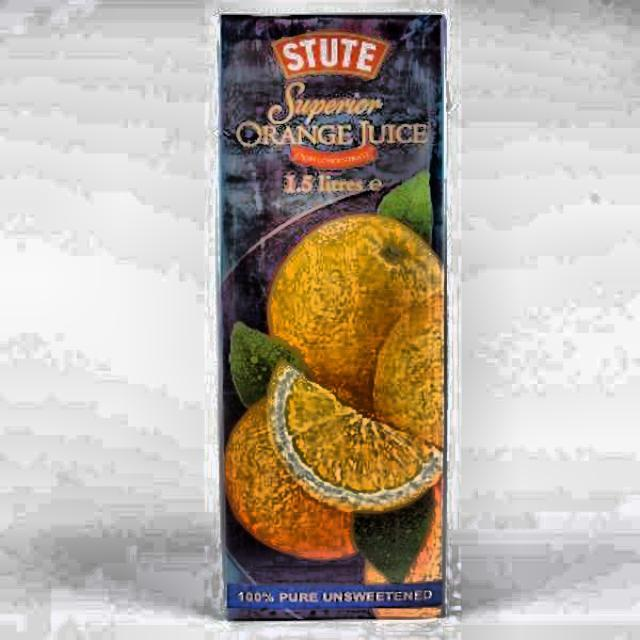cardboard: (216, 12, 448, 620)
